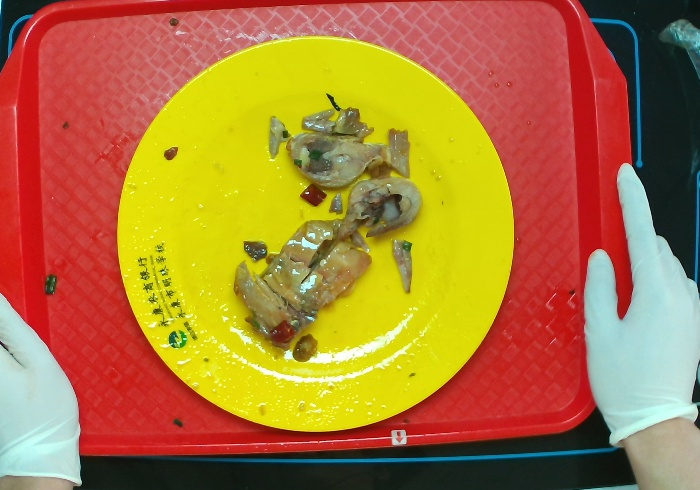YKMZ-Huang_Se_Mian_Pan: (106, 26, 530, 437)
